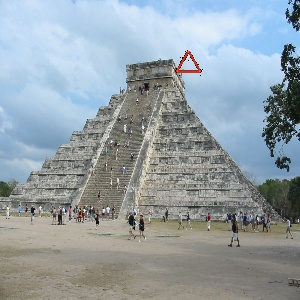triangle: (172, 48, 204, 76)
